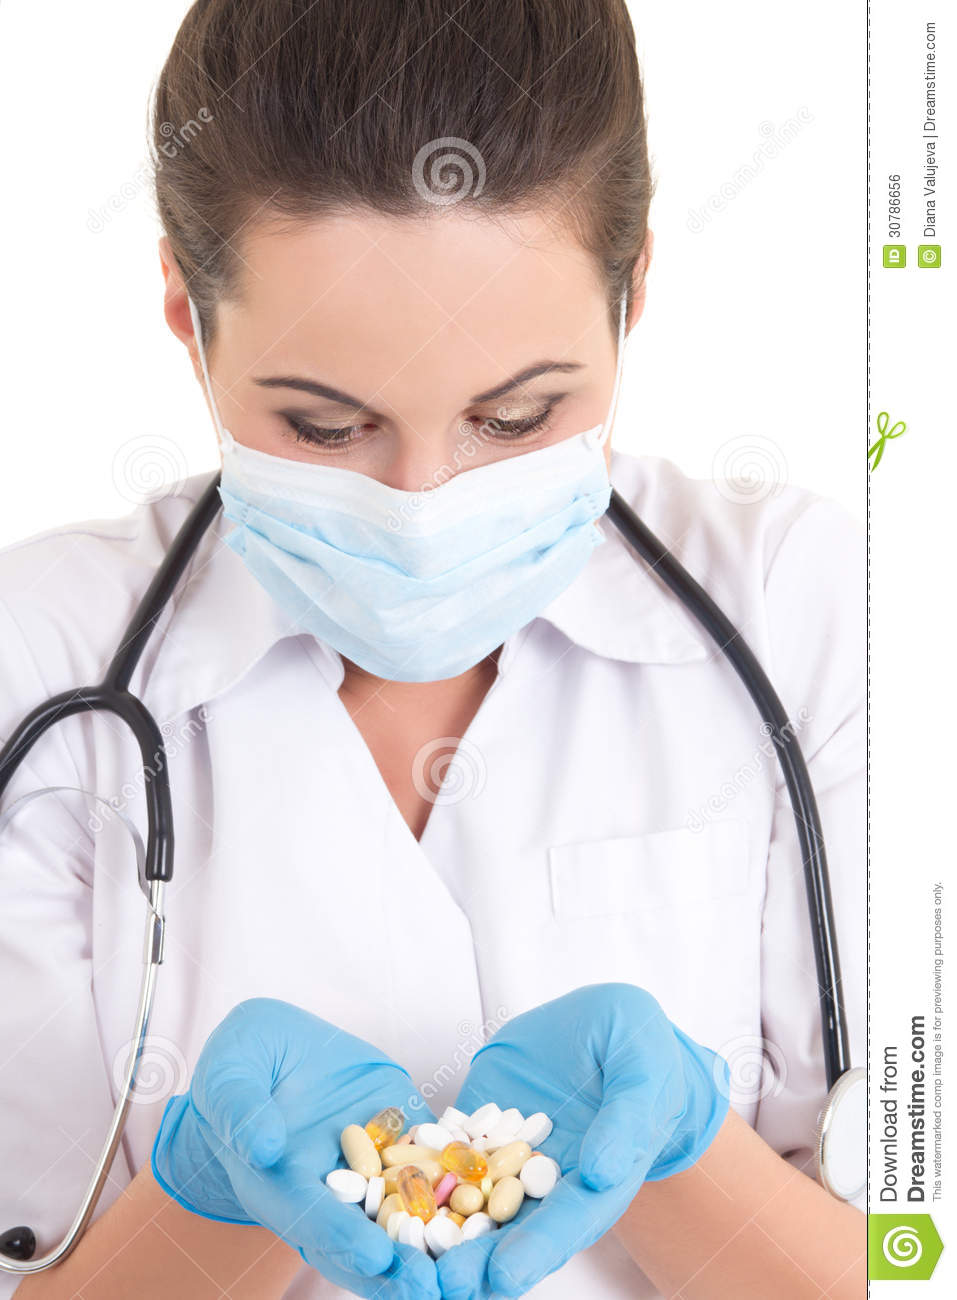mask: (220, 431, 608, 692)
